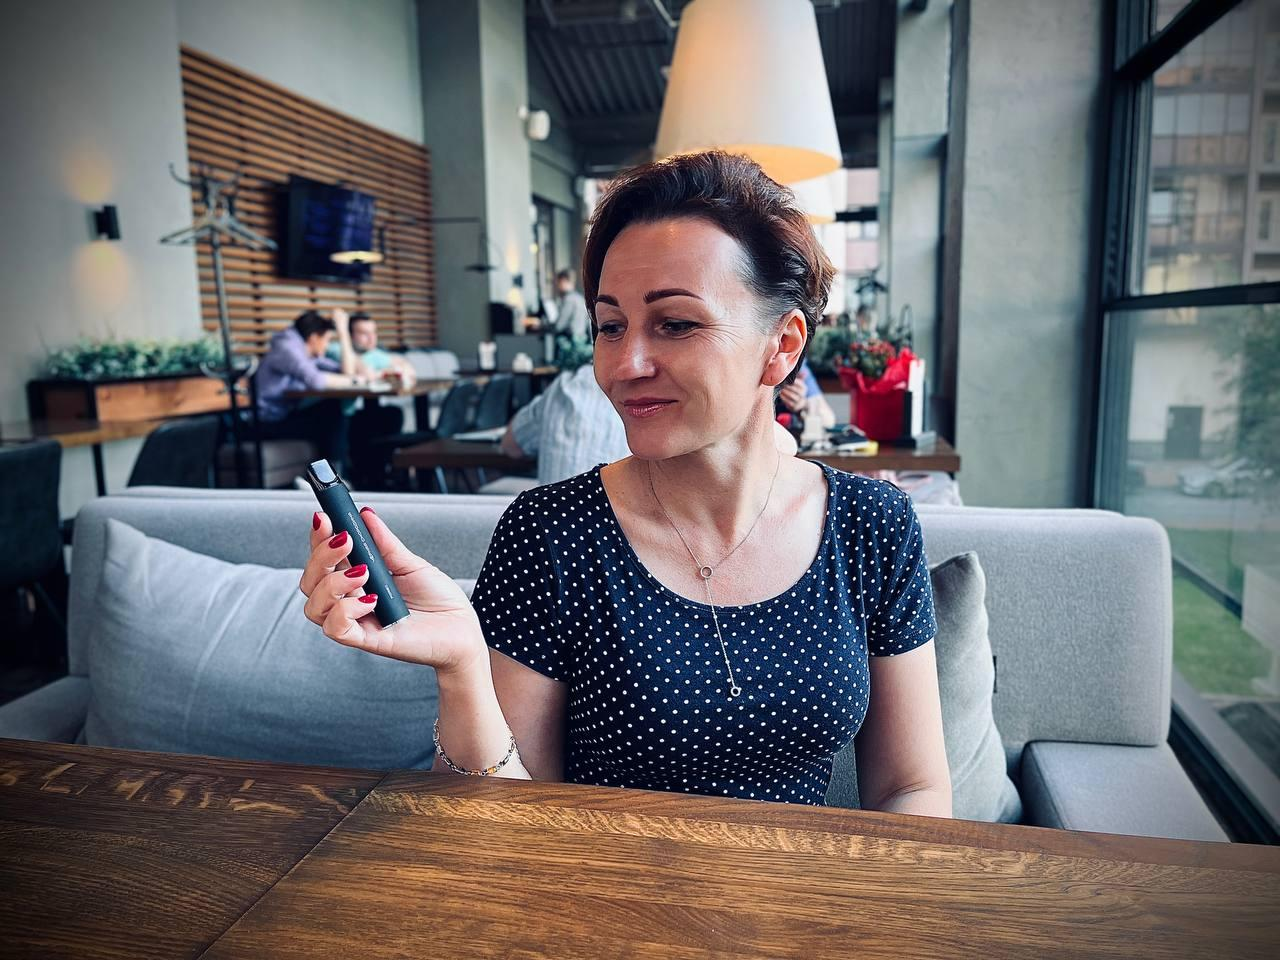Vape: (305, 460, 408, 628)
